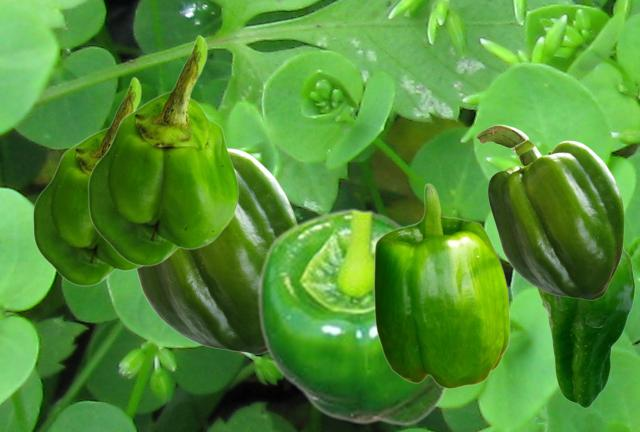bell_pepper: (256, 207, 449, 425), (87, 34, 238, 265), (136, 148, 297, 353), (373, 183, 509, 388), (475, 124, 623, 299), (32, 76, 143, 285), (536, 248, 634, 407)
